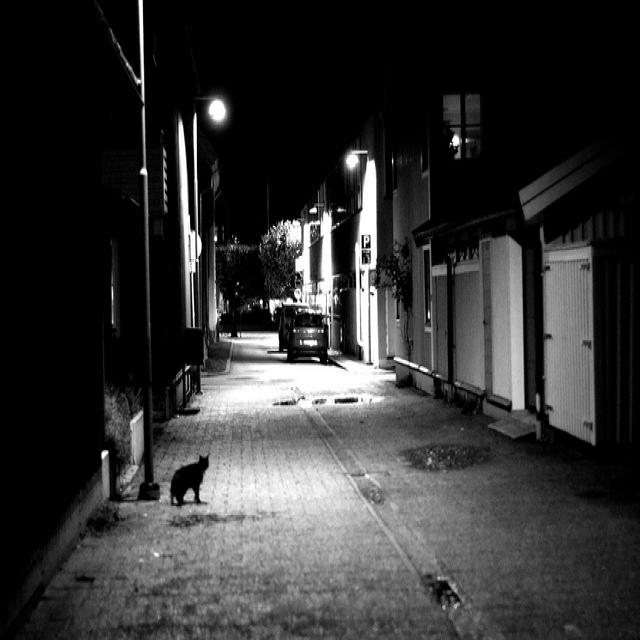Cat: (145, 460, 221, 533)
car: (289, 314, 344, 377), (271, 295, 308, 364)
